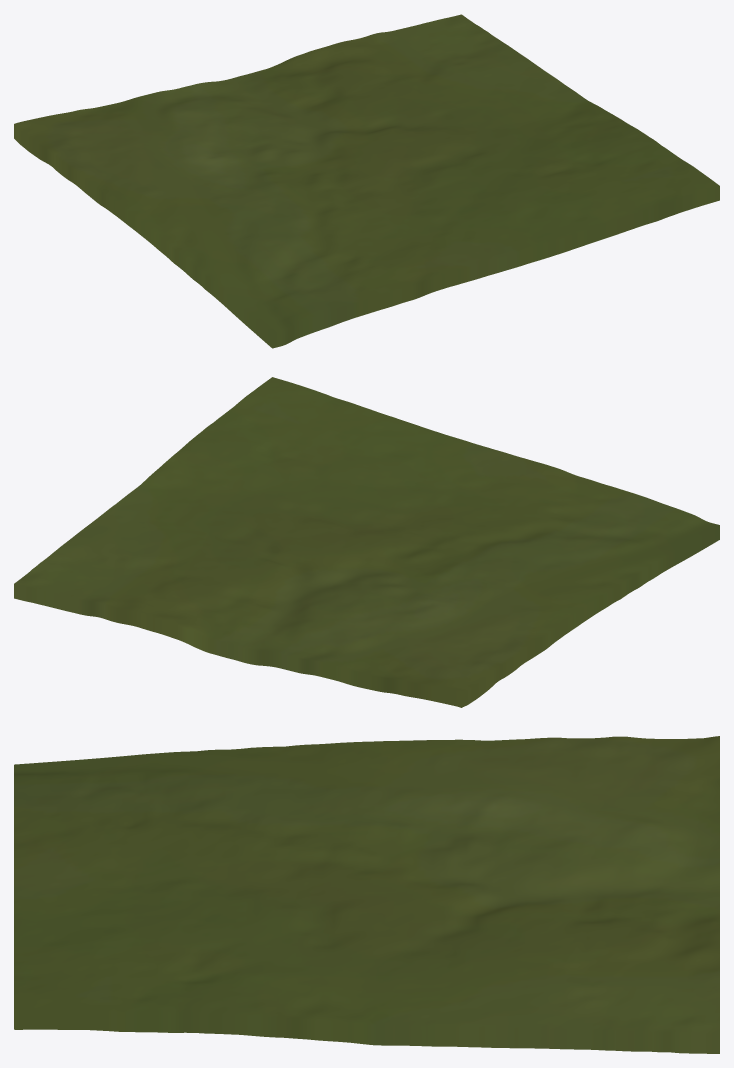
File: terrain_0_-1.glb
The picture shows the model from 3 angles, top to bottom: view 1: azimuth 30°, elevation 25°; view 2: azimuth 150°, elevation 25°; view 3: azimuth 270°, elevation 25°; orthographic projection. The views are drawn at different scales.
Parts seen in each view (by area): view 1: terrain_0_-1; view 2: terrain_0_-1; view 3: terrain_0_-1.
Part boxes in pixels (x1,y1,x2,y2): terrain_0_-1: (14, 14, 719, 348); terrain_0_-1: (14, 377, 719, 707); terrain_0_-1: (14, 736, 719, 1053).
Size of the model in its own units: 256 by 29.29 by 256.
